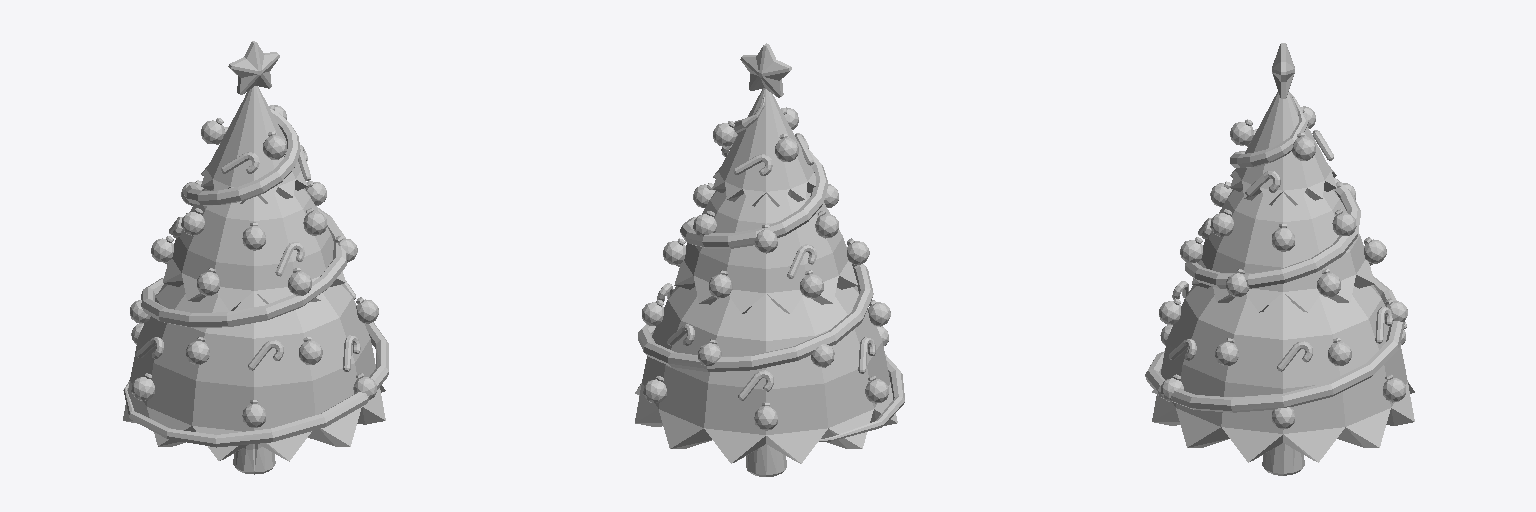
The model's file is christmas_tree_withoutLights.obj.
The picture shows the model from 3 angles: view 1: azimuth 30°, elevation 25°; view 2: azimuth 150°, elevation 25°; view 3: azimuth 270°, elevation 25°; orthographic projection.
Parts seen in each view (by area): view 1: christmas_tree_withoutLights; view 2: christmas_tree_withoutLights; view 3: christmas_tree_withoutLights.
Boxes of the visible parts, x1,y1,x2,y2 form: christmas_tree_withoutLights: [123, 41, 388, 474]; christmas_tree_withoutLights: [635, 43, 904, 476]; christmas_tree_withoutLights: [1145, 43, 1414, 475].
Size of the model in its own units: 2.41 by 4.03 by 2.32.